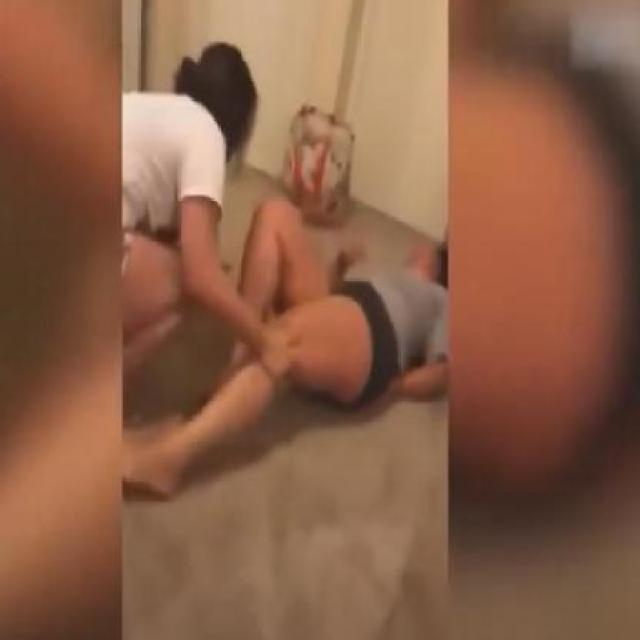fall: (234, 196, 451, 396)
